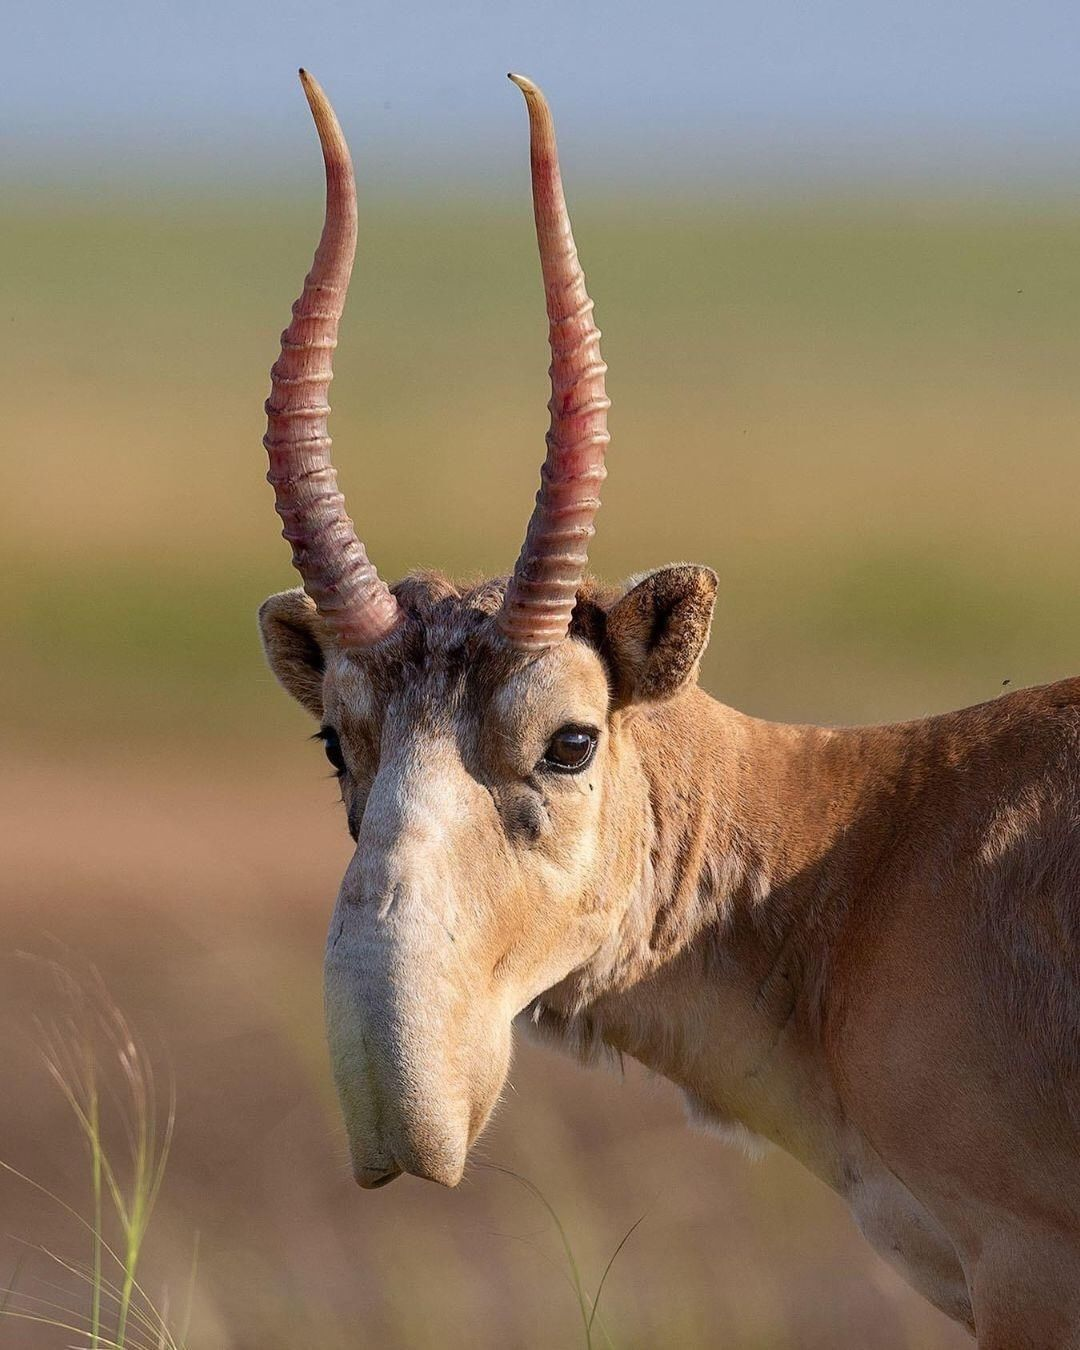saiga: (257, 69, 1080, 1350)
